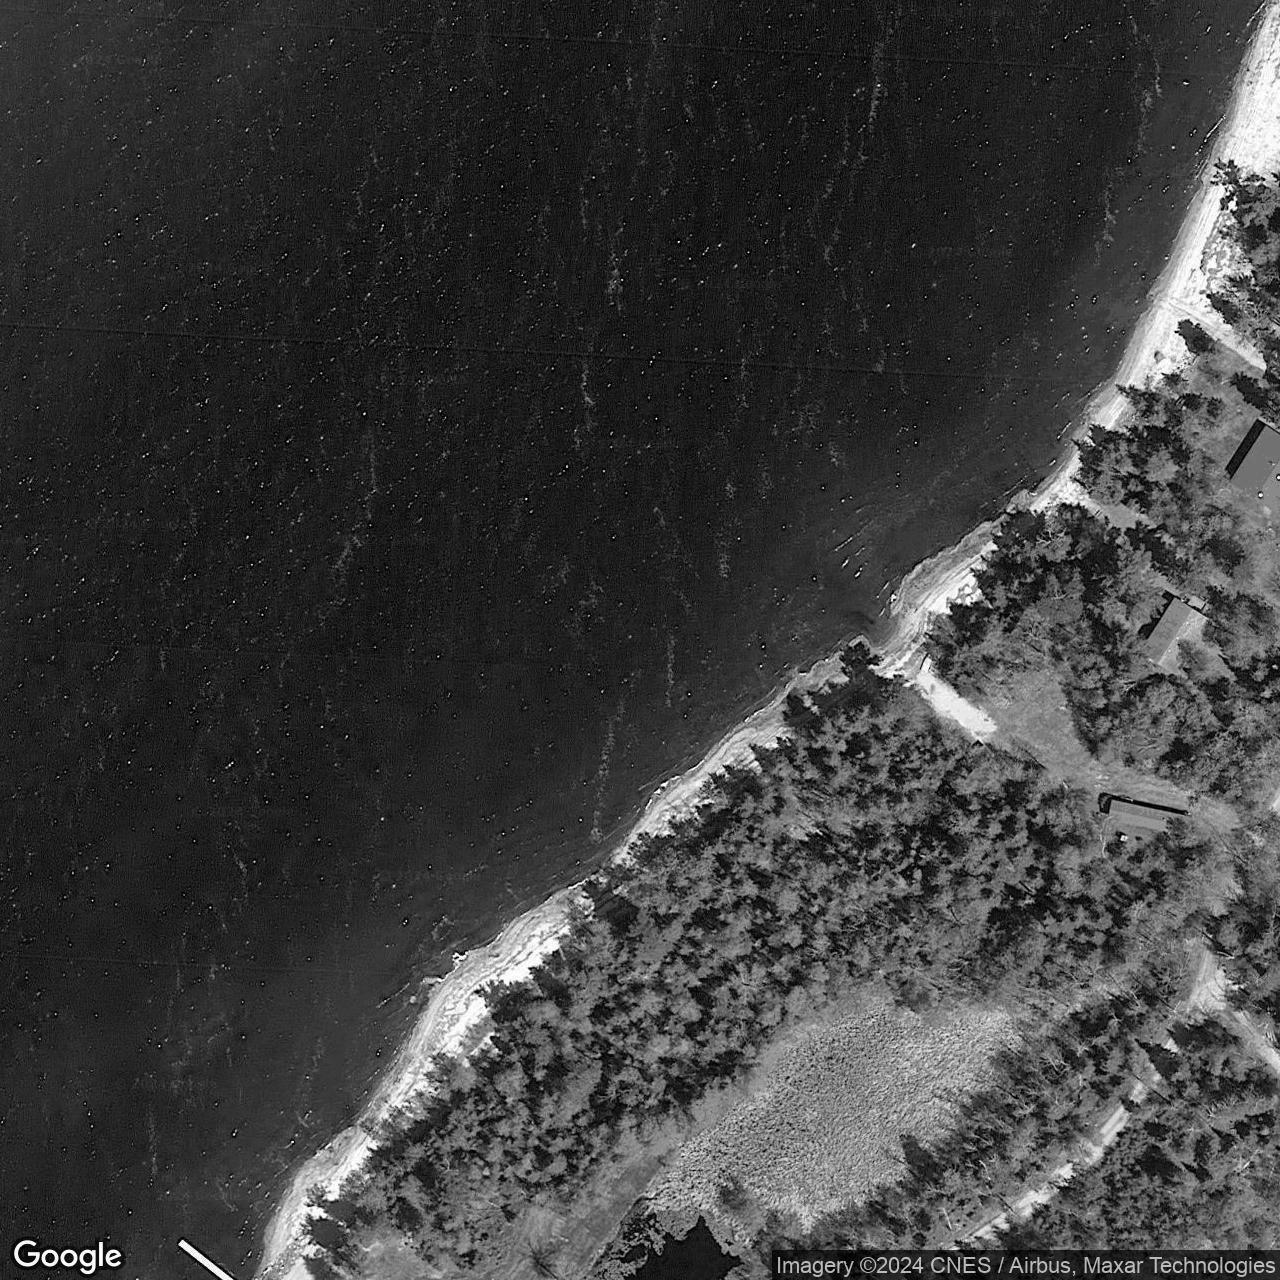Garage: (1138, 595, 1212, 678)
House: (1227, 424, 1280, 518)
Trailer: (1108, 797, 1193, 835)
